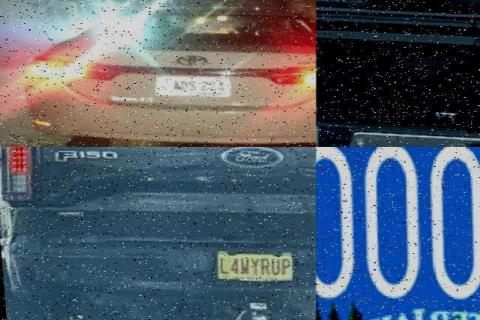LicensePlate: (316, 146, 480, 306), (210, 248, 289, 283), (143, 75, 244, 102)
